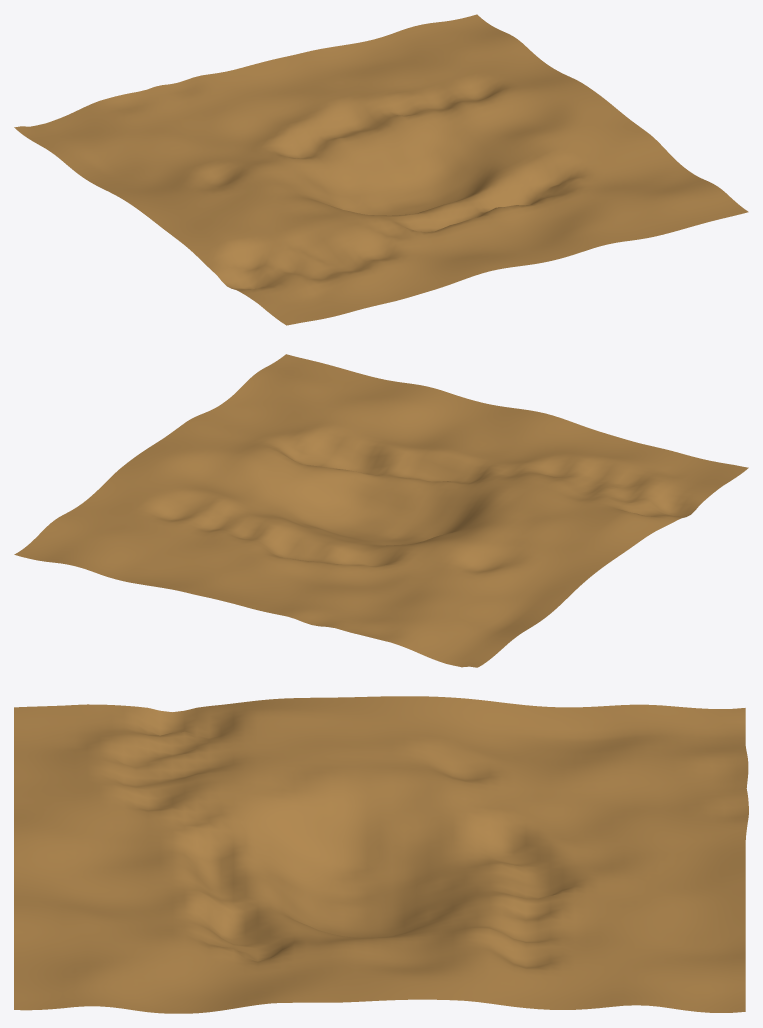
The model's file is terre_bosse_neg2.fbx.
The picture shows the model from 3 angles, top to bottom: view 1: azimuth 30°, elevation 25°; view 2: azimuth 150°, elevation 25°; view 3: azimuth 270°, elevation 25°; orthographic projection. The views are drawn at different scales.
Visible parts, largest first — view 1: terre_boose_neg2; view 2: terre_boose_neg2; view 3: terre_boose_neg2.
Part boxes in pixels (<box>): terre_boose_neg2: <box>14,14,748,325</box>; terre_boose_neg2: <box>14,354,748,667</box>; terre_boose_neg2: <box>14,696,748,1013</box>.
Size of the model in its own units: 709 by 64.83 by 724.
